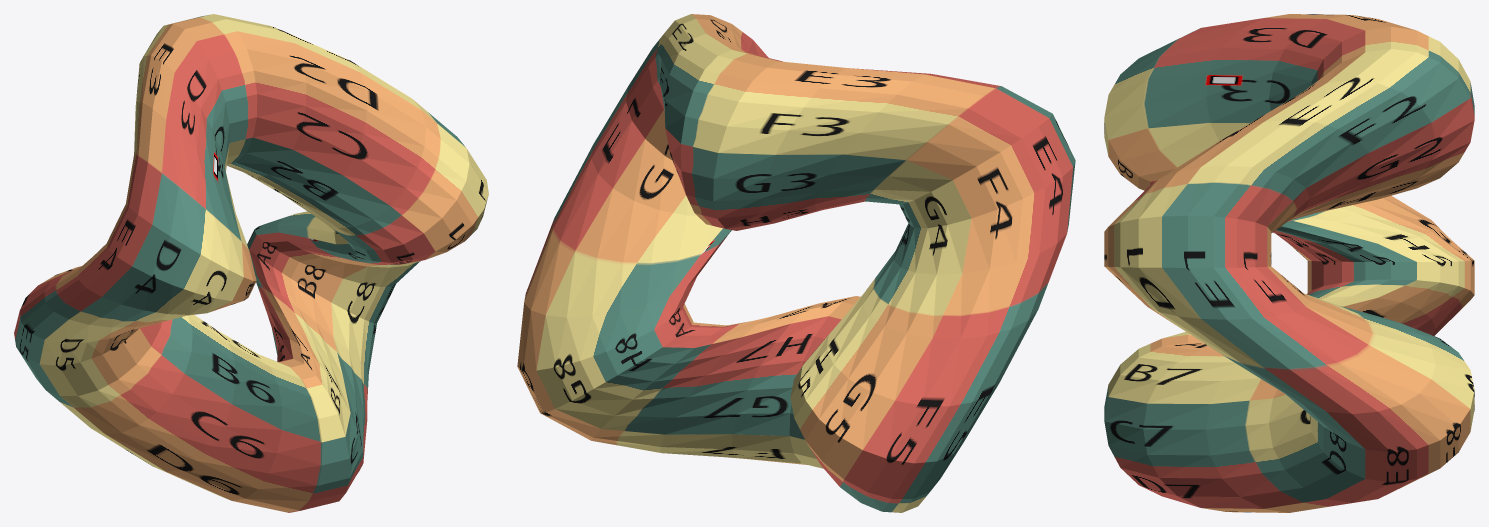
3 views of the same model, side by side, from view 1: azimuth 30°, elevation 25°; view 2: azimuth 150°, elevation 25°; view 3: azimuth 270°, elevation 25° (orthographic). The views are drawn at different scales.
Visible parts, largest first — view 1: Node-Mesh; view 2: Node-Mesh; view 3: Node-Mesh.
Boxes of the visible parts, box(x1,y1,x2,y2) form: Node-Mesh: box(14, 14, 488, 512); Node-Mesh: box(517, 14, 1075, 512); Node-Mesh: box(1104, 14, 1474, 512).
Bounding box in the file's own units: 3 × 2.98 × 2.22.
Materials: 1 (1 with a texture image).
